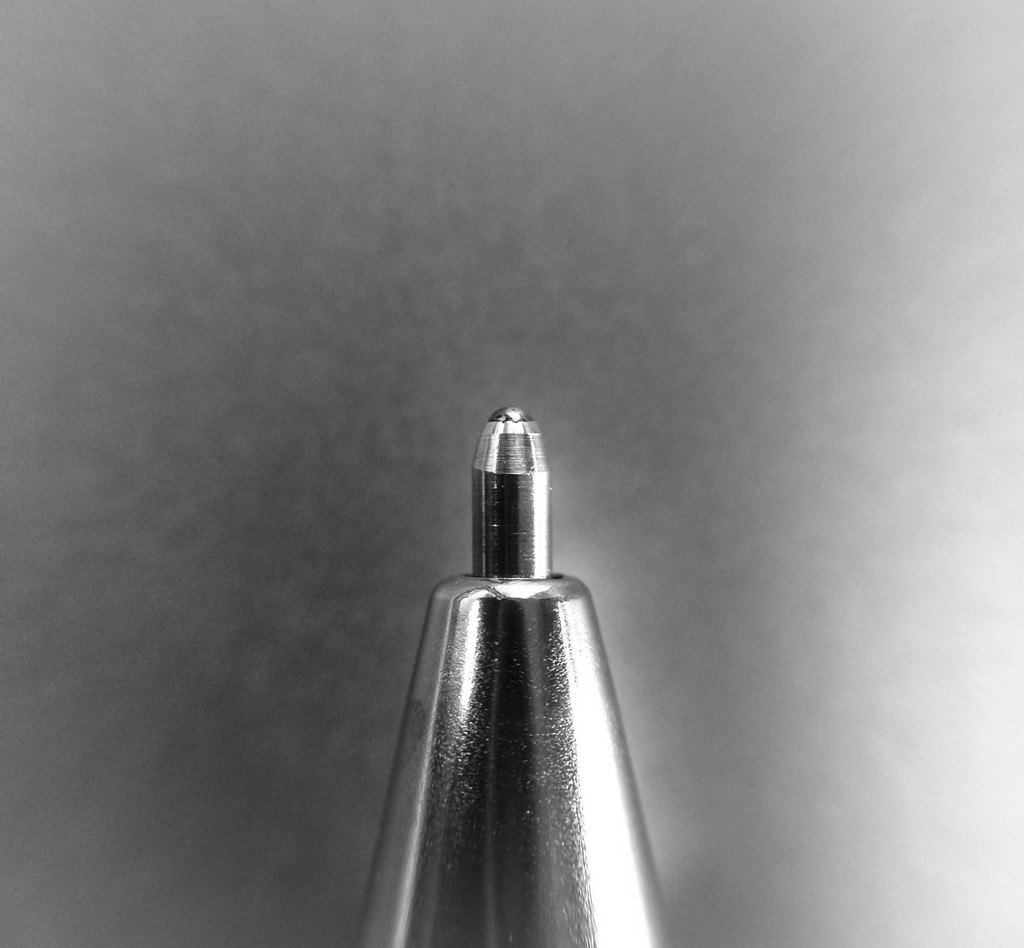Pen: (346, 405, 687, 947)
